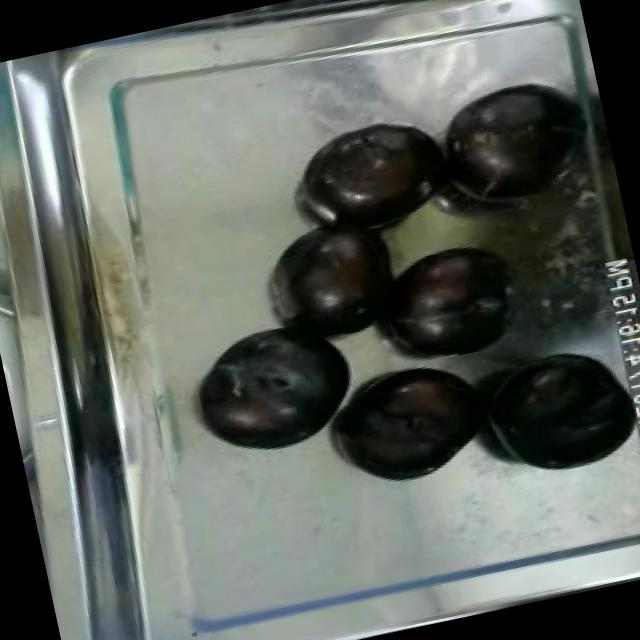Fruit: (181, 301, 372, 468), (468, 329, 640, 489), (428, 69, 604, 218), (260, 198, 418, 352), (326, 353, 495, 494), (375, 230, 531, 372), (294, 108, 456, 238)
